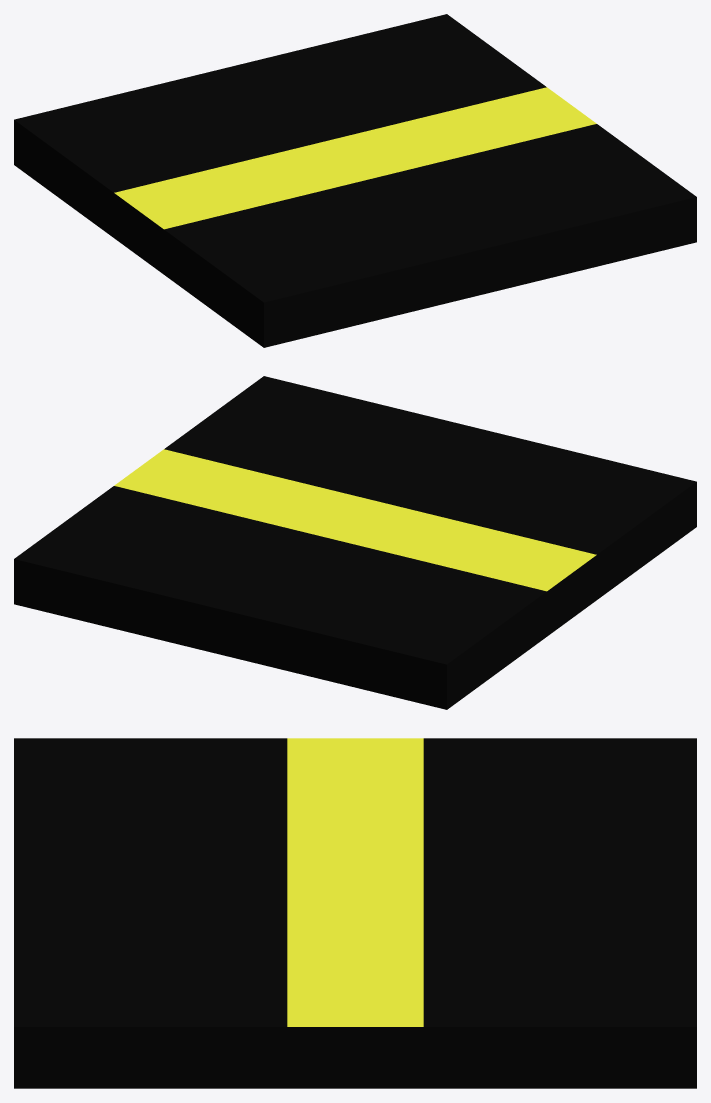
The model's file is Mod_Tile_10_Var_02.fbx.
The picture shows the model from 3 angles, top to bottom: view 1: azimuth 30°, elevation 25°; view 2: azimuth 150°, elevation 25°; view 3: azimuth 270°, elevation 25°; orthographic projection. The views are drawn at different scales.
Visible parts, largest first — view 1: Mod_Tile_10_Var_02; view 2: Mod_Tile_10_Var_02; view 3: Mod_Tile_10_Var_02.
Boxes of the visible parts, x1,y1,x2,y2 form: Mod_Tile_10_Var_02: (14, 14, 696, 347); Mod_Tile_10_Var_02: (14, 376, 696, 709); Mod_Tile_10_Var_02: (14, 738, 696, 1088).
Bounding box in the file's own units: 100 × 10 × 100.
